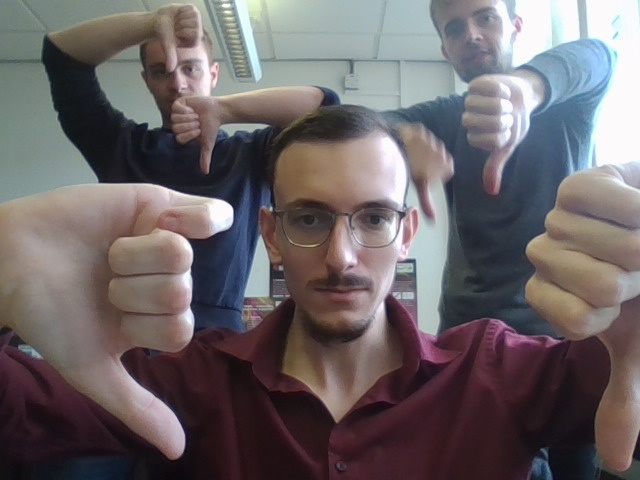thumbdown: (18, 182, 212, 458), (523, 162, 640, 473), (461, 74, 530, 194), (169, 95, 225, 173), (157, 3, 203, 69)
